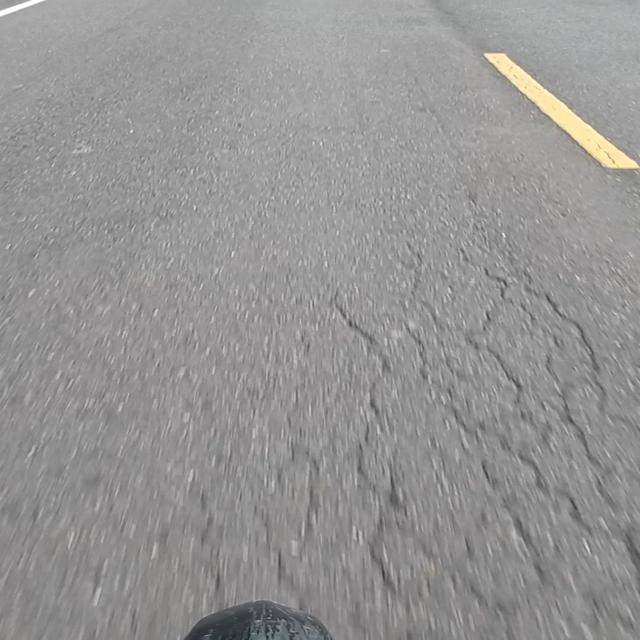Retak Buaya: (216, 269, 640, 640)
